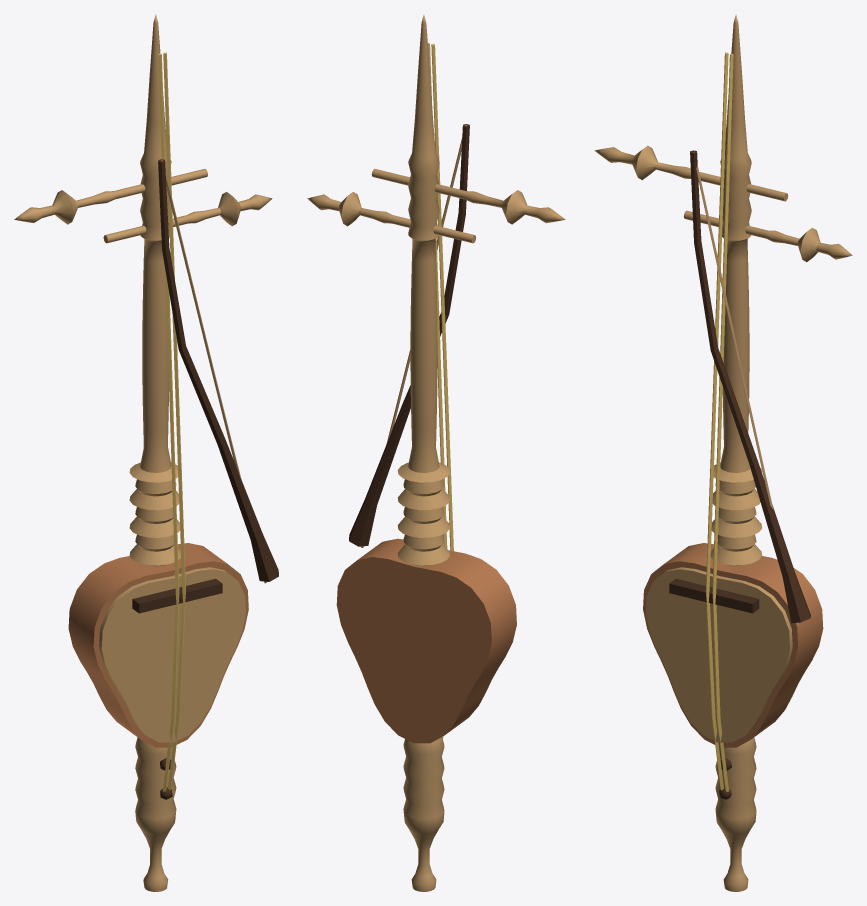
Rendered from gamelar_rebab.fbx.
3 views of the same model, side by side, from view 1: azimuth 30°, elevation 25°; view 2: azimuth 150°, elevation 25°; view 3: azimuth 330°, elevation 25° (orthographic).
Visible parts, largest first — view 1: Rebab_Mesh; view 2: Rebab_Mesh; view 3: Rebab_Mesh.
Part boxes in pixels (x1,y1,x2,y2): Rebab_Mesh: (14,14,278,891); Rebab_Mesh: (307,15,565,891); Rebab_Mesh: (594,15,852,891).
Size of the model in its own units: 0.31 by 1 by 0.0879.
